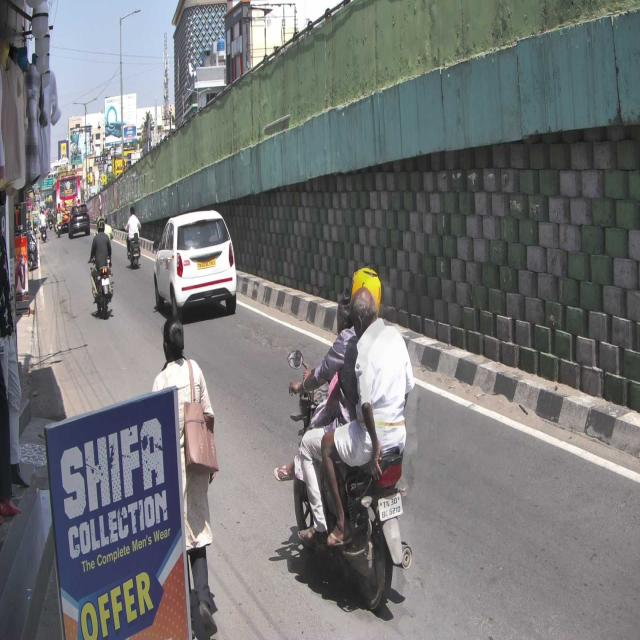triple_rider: (282, 264, 413, 612)
